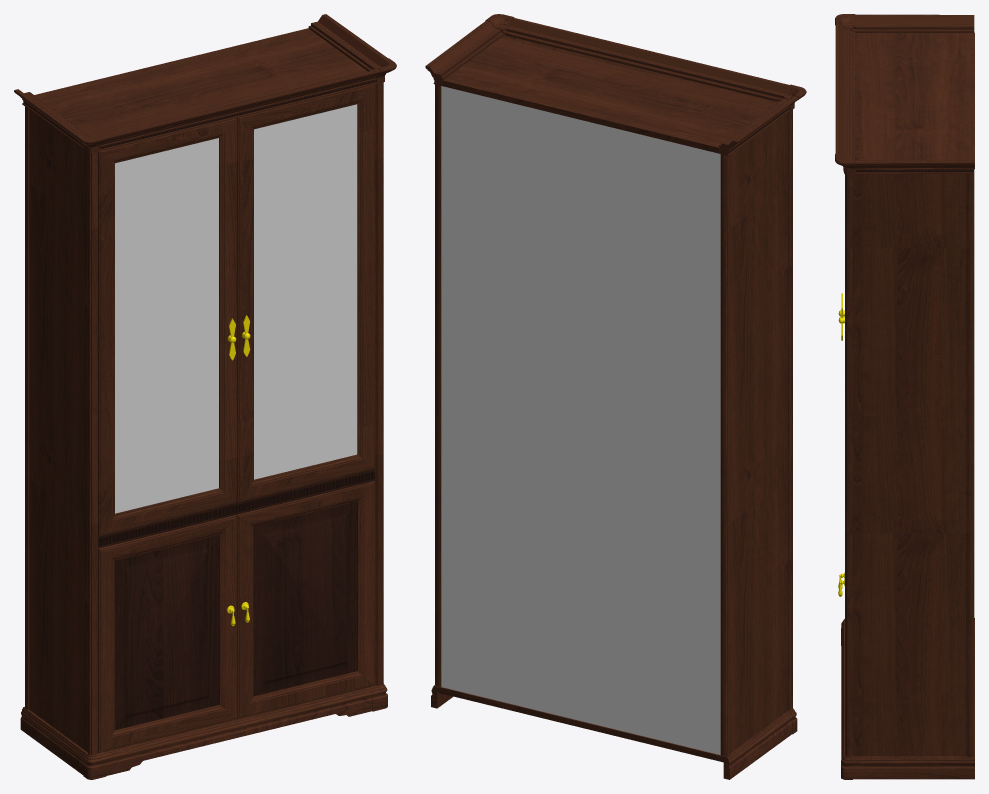
Rendered from forBook.FBX.
3 renders of one model, left to right at view 1: azimuth 30°, elevation 25°; view 2: azimuth 150°, elevation 25°; view 3: azimuth 270°, elevation 25°, orthographic. The views are drawn at different scales.
Parts seen in each view (by area): view 1: Loft24, Box65, Dj_Kabinet_Shkaf, Box70, Plane01, Plane17, Box04; view 2: Box05, Dj_Kabinet_Shkaf, Box70, Plane17, Plane01; view 3: Dj_Kabinet_Shkaf, Box70, Plane17, Plane01, Box04.
Part boxes in pixels (bbox=[...]): Loft24: bbox=[98, 84, 374, 752]; Box65: bbox=[115, 104, 357, 513]; Dj_Kabinet_Shkaf: bbox=[25, 82, 383, 755]; Box70: bbox=[34, 28, 369, 752]; Plane01: bbox=[20, 683, 387, 779]; Plane17: bbox=[14, 14, 396, 153]; Box04: bbox=[23, 79, 375, 149]; Box05: bbox=[441, 86, 720, 754]; Dj_Kabinet_Shkaf: bbox=[435, 84, 792, 756]; Box70: bbox=[435, 35, 777, 762]; Plane17: bbox=[425, 14, 806, 155]; Plane01: bbox=[431, 685, 797, 779]; Dj_Kabinet_Shkaf: bbox=[845, 174, 974, 756]; Box70: bbox=[855, 32, 974, 756]; Plane17: bbox=[835, 14, 974, 174]; Plane01: bbox=[841, 618, 974, 779]; Box04: bbox=[856, 169, 973, 172].
Bounding box in the file's own units: 113 × 221 × 44.99.
